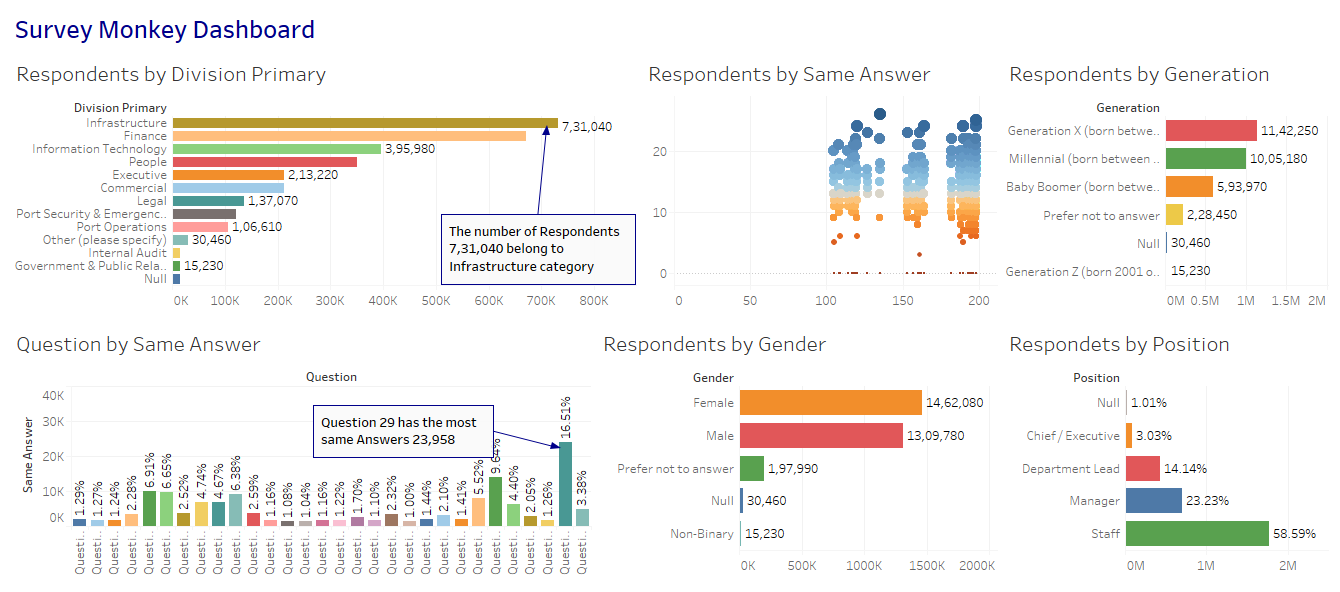

What the dashboard file says about the page in this screenshot:
{"tool":"tableau","page":{"name":"Survey Monkey Dashboard","canvas":[1000,1000],"units":"permille","ordinal":0},"visuals":[{"type":"title","box":[6,13.5,988.1,69.2]},{"type":"worksheet","title":"Respondents by Division Primary","mark":"Automatic","rows":["Division Primary"],"cols":["Respondents"],"box":[6,82.8,471.3,456.1]},{"type":"worksheet","title":"Respondents by Same Answer","mark":"Circle","rows":["Same_Answer"],"cols":["Respondents"],"box":[477.3,82.8,269.7,456.1]},{"type":"worksheet","title":"Respondents by Generation","mark":"Automatic","rows":["Generation"],"cols":["Respondents"],"box":[747,82.8,247.1,456.1]},{"type":"worksheet","title":"Question by Same Answer","mark":"Automatic","rows":["Same_Answer"],"cols":["Question"],"box":[6,538.9,438,447.6]},{"type":"worksheet","title":"Respondents by Gender","mark":"Automatic","rows":["Gender"],"cols":["Respondents"],"box":[443.9,538.9,303,447.6]},{"type":"worksheet","title":"Respondets by Position","mark":"Automatic","rows":["Position"],"cols":["Respondents"],"box":[747,538.9,247.1,447.6]}]}

Visuals, with their boxes on the dashboard's canvas, which has no fixed pixel size, in thousandths of its width and height (x1, y1, x2, y2). These are canvas units, not pixel positions in the 1340x592 screenshot, which may show the page scaled, cropped or inside an application window:
title: [left=6, top=14, right=994, bottom=83]
"Respondents by Division Primary" worksheet: [left=6, top=83, right=477, bottom=539]
"Respondents by Same Answer" worksheet (Circle marks): [left=477, top=83, right=747, bottom=539]
"Respondents by Generation" worksheet: [left=747, top=83, right=994, bottom=539]
"Question by Same Answer" worksheet: [left=6, top=539, right=444, bottom=986]
"Respondents by Gender" worksheet: [left=444, top=539, right=747, bottom=986]
"Respondets by Position" worksheet: [left=747, top=539, right=994, bottom=986]
